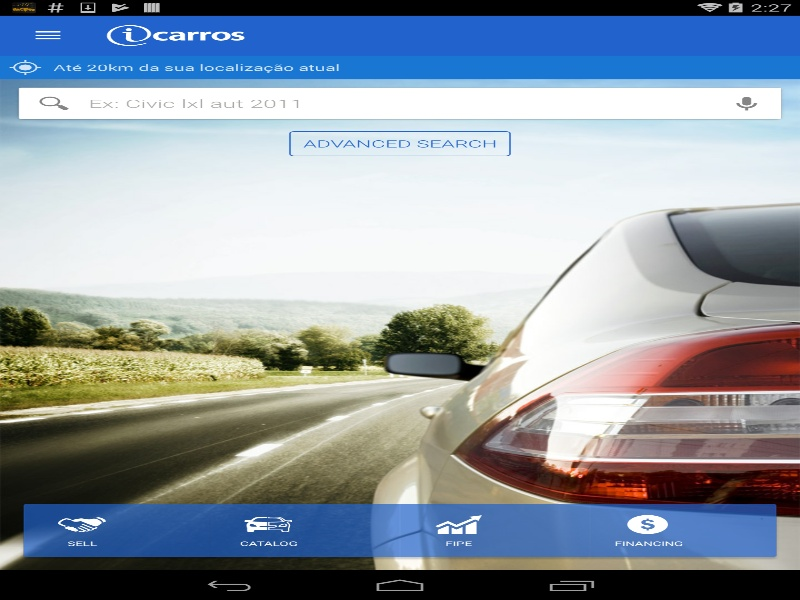Button: (23, 503, 140, 557), (210, 503, 327, 557), (400, 503, 517, 557), (590, 503, 707, 557), (289, 131, 510, 156), (10, 15, 85, 55), (712, 87, 781, 119)
Input: (19, 87, 712, 119)
